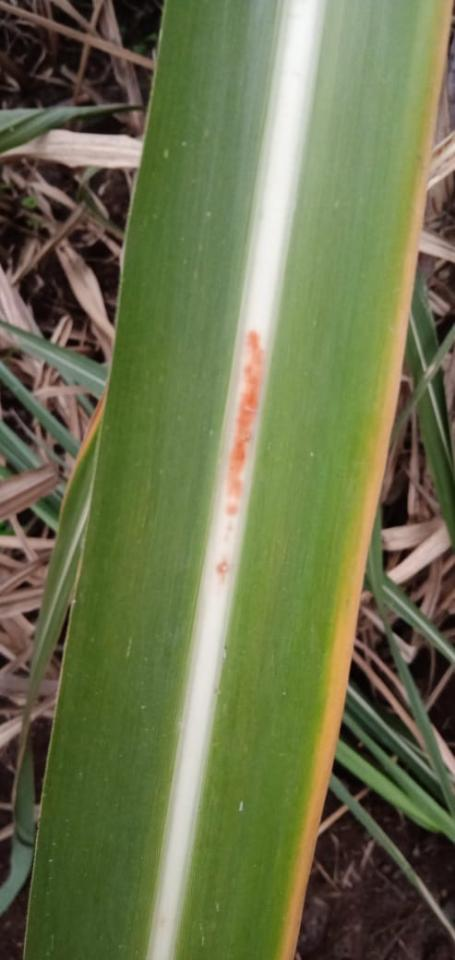RedRot: (219, 324, 267, 527), (212, 554, 238, 589), (222, 522, 239, 551)
Yellow: (278, 0, 453, 959)
